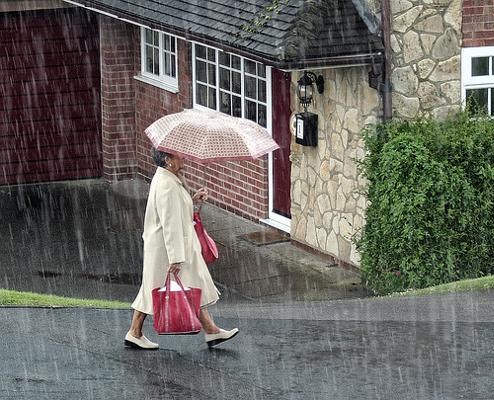person: (124, 144, 241, 352)
